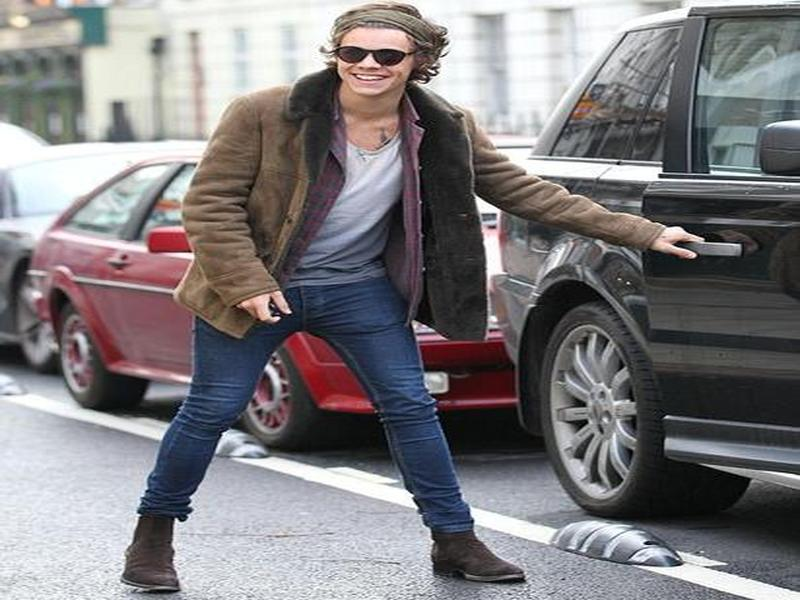shoes_men_chelsea_chelseaboots_suede_none_none_brown_none: (398, 516, 541, 591), (110, 503, 191, 596)
